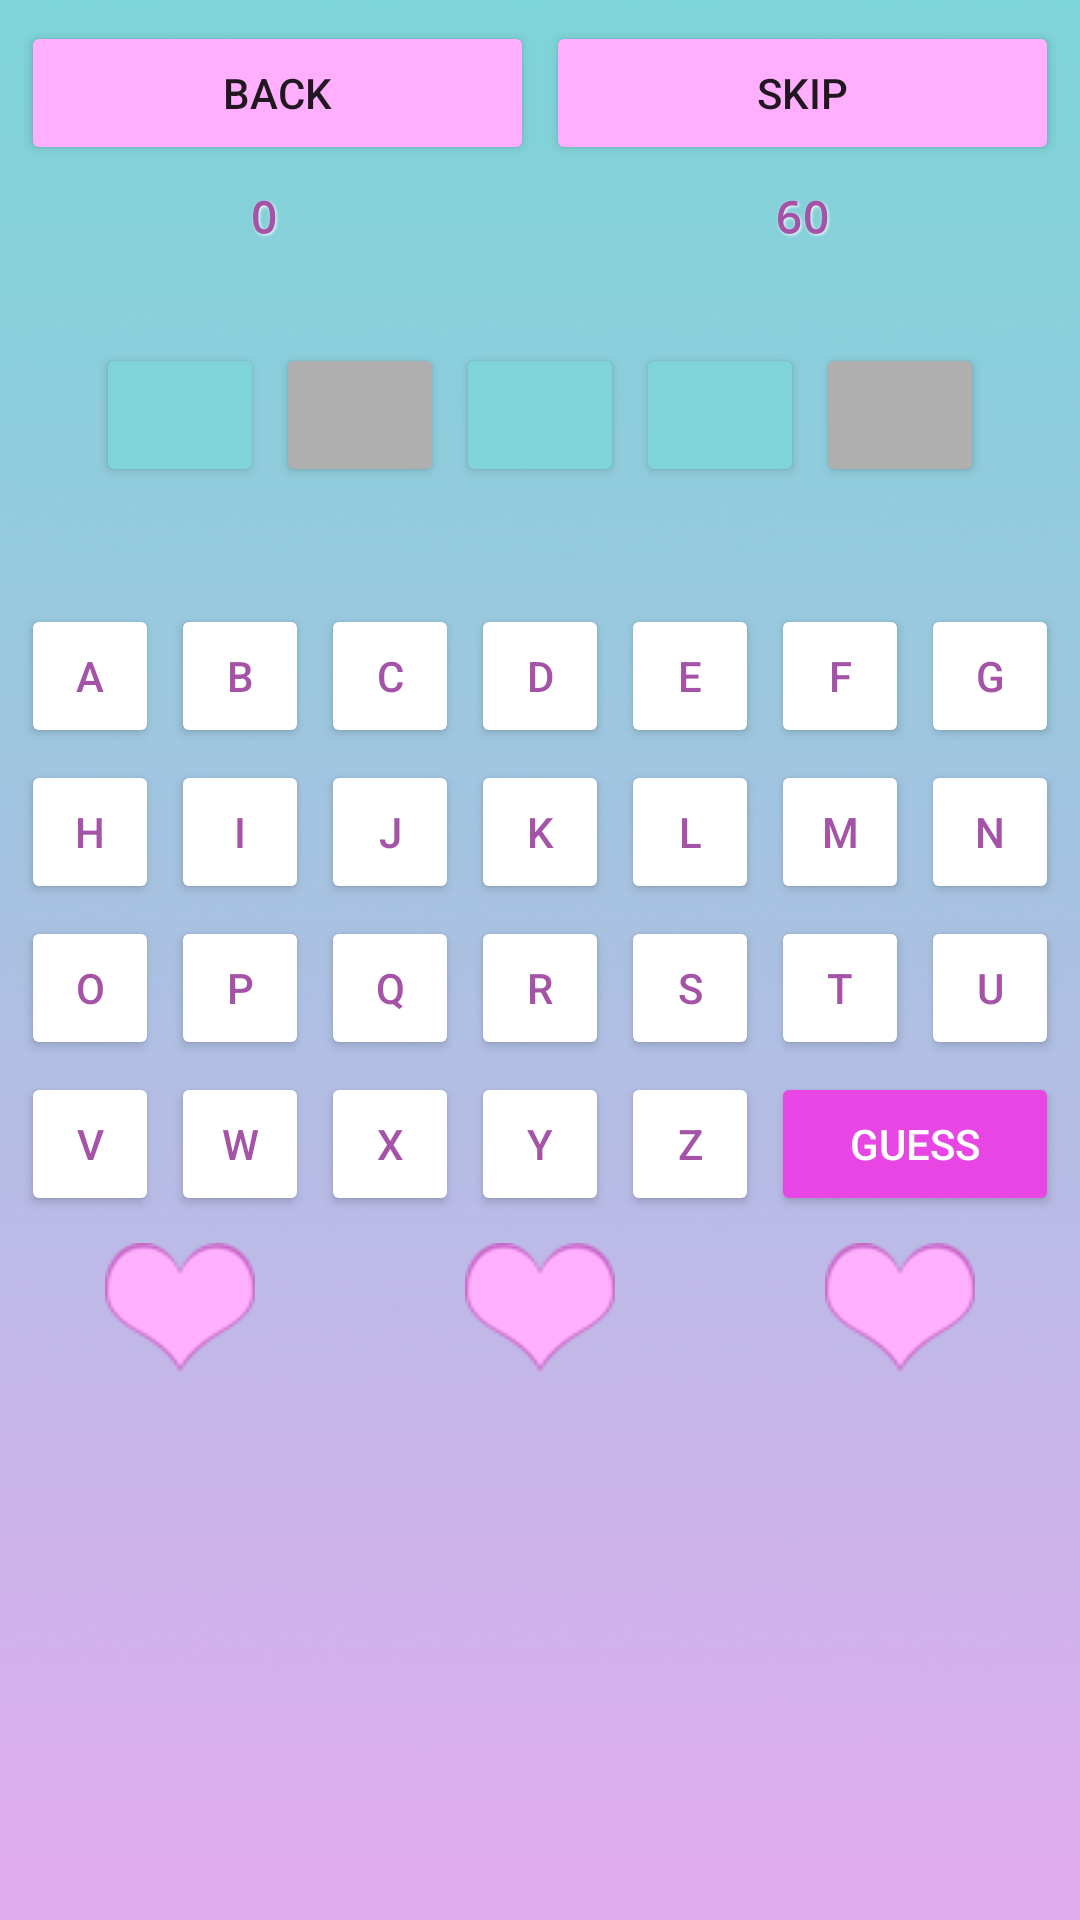

Screen size 1080*1920. Icon name, then its center in pixels as point (x, y):
heartfull: point (180, 1307), point (540, 1307), point (900, 1307)
